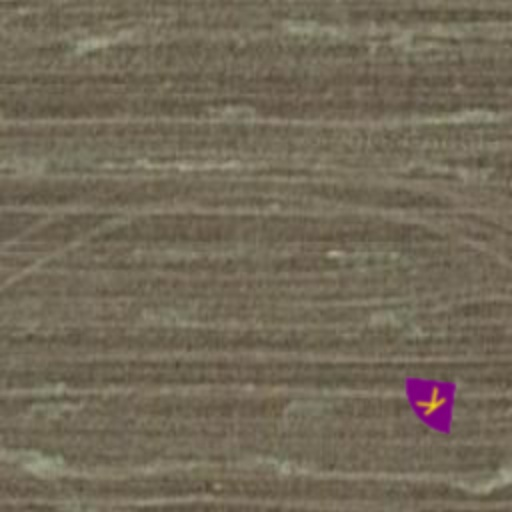quarter_circle: (384, 354, 480, 450)
